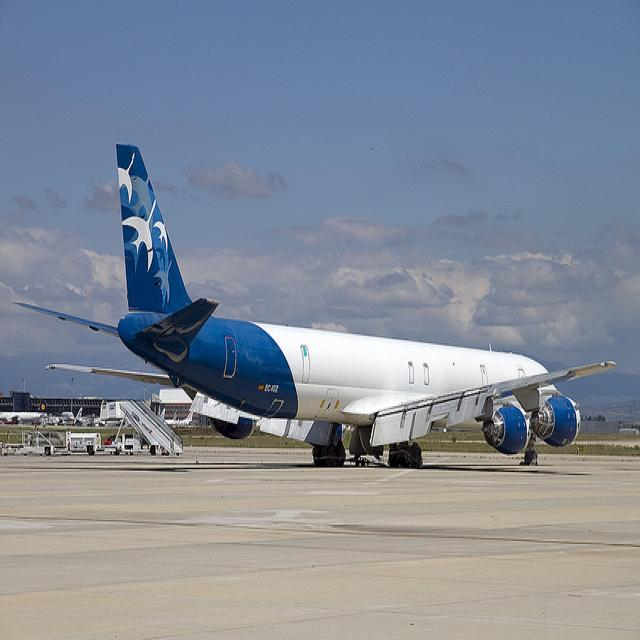airplane: (12, 141, 618, 470)
